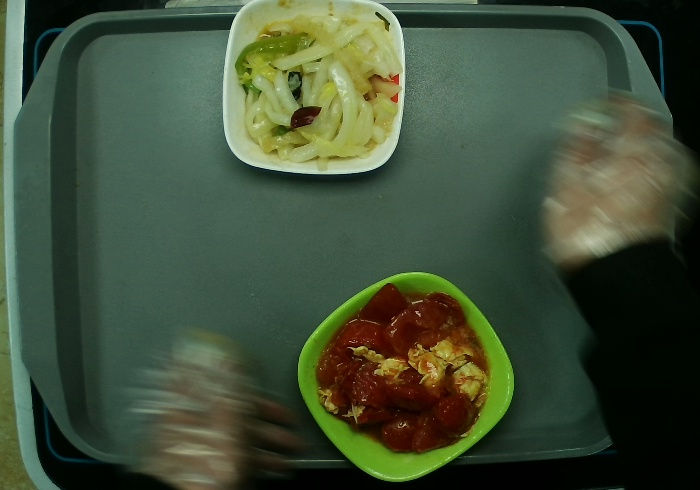SHKJ-Bai_Se_Xiao_Fang_Die: (219, 1, 412, 182)
SHKJ-Lv_Se_Cai_Die: (296, 270, 520, 483)
